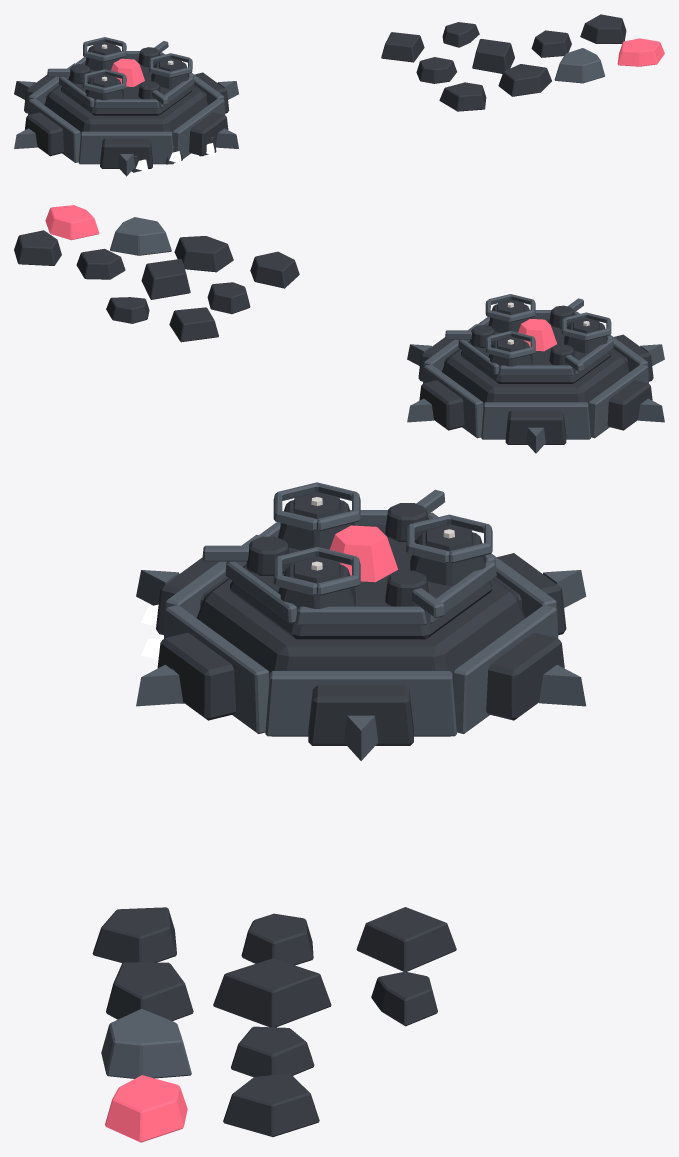
The model's file is Enemy_SwarmPod_v4.fbx.
3 views of the same model, one above another, from view 1: azimuth 30°, elevation 25°; view 2: azimuth 150°, elevation 25°; view 3: azimuth 270°, elevation 25° (orthographic). The views are drawn at different scales.
Parts seen in each view (by area): view 1: Body, Trim_Edge_04, Body_Upper, Enemy_SwarmPod_v4_Chunk_03, Enemy_SwarmPod_v4_Chunk_02, Armor_04, Enemy_SwarmPod_v4_Chunk_06, Enemy_SwarmPod_v4_Chunk_04, Armor_03, Enemy_SwarmPod_v4_Chunk_01, Enemy_SwarmPod_v4_Chunk_08, Armor_05 (+26 smaller); view 2: Body, Trim_Edge_02, Body_Upper, Enemy_SwarmPod_v4_Chunk_03, Armor_02, Enemy_SwarmPod_v4_Chunk_02, Enemy_SwarmPod_v4_Chunk_06, Armor_03, Enemy_SwarmPod_v4_Chunk_04, Armor_01, Enemy_SwarmPod_v4_Chunk_08, Enemy_SwarmPod_v4_Chunk_01 (+26 smaller); view 3: Body, Trim_Edge_06, Enemy_SwarmPod_v4_Chunk_06, Body_Upper, Armor_06, Enemy_SwarmPod_v4_Chunk_03, Enemy_SwarmPod_v4_Chunk_08, Armor_01, Armor_05, Enemy_SwarmPod_v4_Chunk_09, Enemy_SwarmPod_v4_Chunk_04, Trim_Edge_05 (+28 smaller).
Boxes of the visible parts, x1,y1,x2,y2 form: Body: [44, 85, 208, 133]; Trim_Edge_04: [78, 131, 174, 164]; Body_Upper: [61, 58, 192, 115]; Enemy_SwarmPod_v4_Chunk_03: [554, 48, 604, 83]; Enemy_SwarmPod_v4_Chunk_02: [498, 64, 551, 96]; Armor_04: [100, 138, 152, 168]; Enemy_SwarmPod_v4_Chunk_06: [472, 39, 514, 73]; Enemy_SwarmPod_v4_Chunk_04: [617, 38, 664, 66]; Armor_03: [25, 112, 63, 156]; Enemy_SwarmPod_v4_Chunk_01: [439, 82, 486, 111]; Enemy_SwarmPod_v4_Chunk_08: [580, 14, 626, 43]; Armor_05: [189, 112, 228, 156]; Body: [442, 349, 629, 405]; Trim_Edge_02: [481, 402, 590, 439]; Body_Upper: [461, 318, 611, 383]; Enemy_SwarmPod_v4_Chunk_03: [110, 217, 171, 255]; Armor_02: [505, 410, 566, 444]; Enemy_SwarmPod_v4_Chunk_02: [174, 236, 233, 272]; Enemy_SwarmPod_v4_Chunk_06: [141, 259, 190, 299]; Armor_03: [607, 380, 652, 430]; Enemy_SwarmPod_v4_Chunk_04: [45, 205, 99, 240]; Armor_01: [419, 380, 464, 430]; Enemy_SwarmPod_v4_Chunk_08: [14, 230, 61, 265]; Enemy_SwarmPod_v4_Chunk_01: [250, 251, 299, 288]; Body: [197, 578, 525, 736]; Trim_Edge_06: [265, 671, 456, 736]; Enemy_SwarmPod_v4_Chunk_06: [213, 958, 331, 1027]; Body_Upper: [230, 525, 492, 639]; Armor_06: [308, 685, 413, 745]; Enemy_SwarmPod_v4_Chunk_03: [101, 1008, 191, 1078]; Enemy_SwarmPod_v4_Chunk_08: [223, 1073, 319, 1136]; Armor_01: [486, 632, 564, 720]; Armor_05: [157, 632, 235, 720]; Enemy_SwarmPod_v4_Chunk_09: [356, 907, 456, 971]; Enemy_SwarmPod_v4_Chunk_04: [105, 1075, 187, 1142]; Trim_Edge_05: [164, 605, 269, 733].
Bounding box in the file's own units: 6.24 × 0.7 × 2.24.
